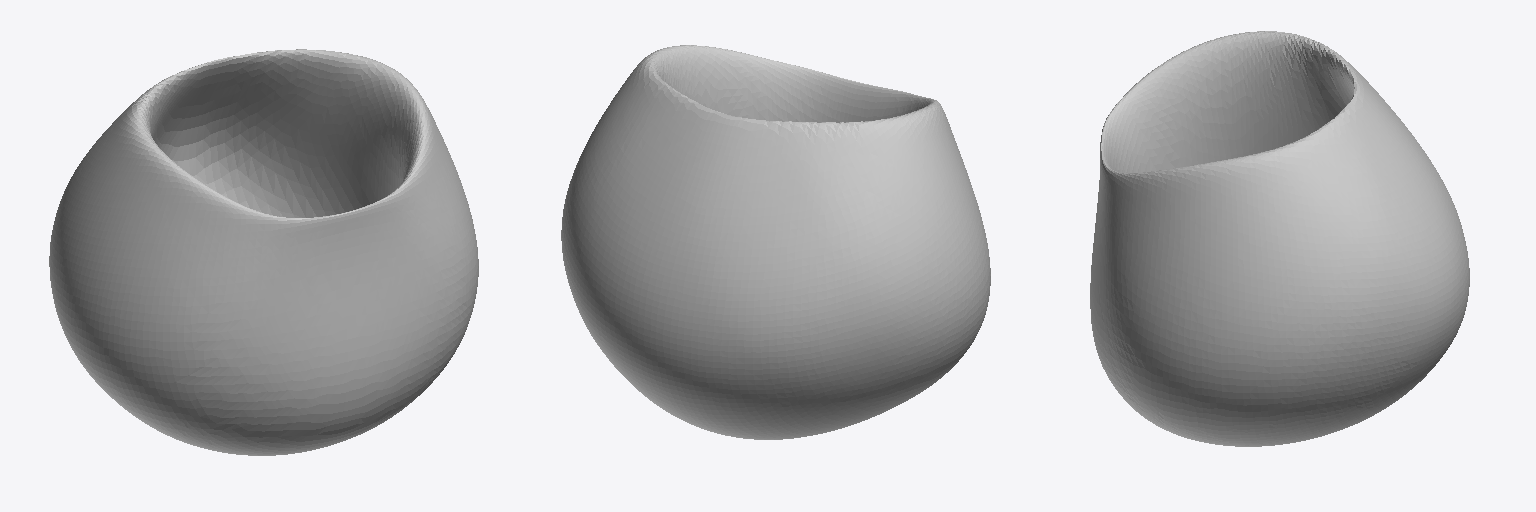
The model's file is finalbowl.obj.
3 views of the same model, side by side, from view 1: azimuth 30°, elevation 25°; view 2: azimuth 150°, elevation 25°; view 3: azimuth 270°, elevation 25° (orthographic).
Visible parts, largest first — view 1: ZBrush_defualt_group; view 2: ZBrush_defualt_group; view 3: ZBrush_defualt_group.
Boxes of the visible parts, x1=… form: ZBrush_defualt_group: x1=49, y1=49, x2=478, y2=455; ZBrush_defualt_group: x1=561, y1=45, x2=990, y2=439; ZBrush_defualt_group: x1=1090, y1=31, x2=1469, y2=446.
Size of the model in its own units: 147 by 125 by 127.